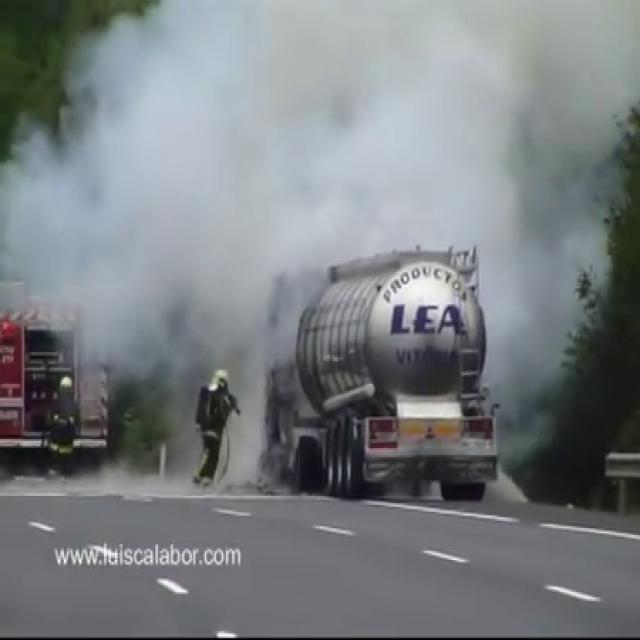Smoke: (1, 0, 640, 404)
